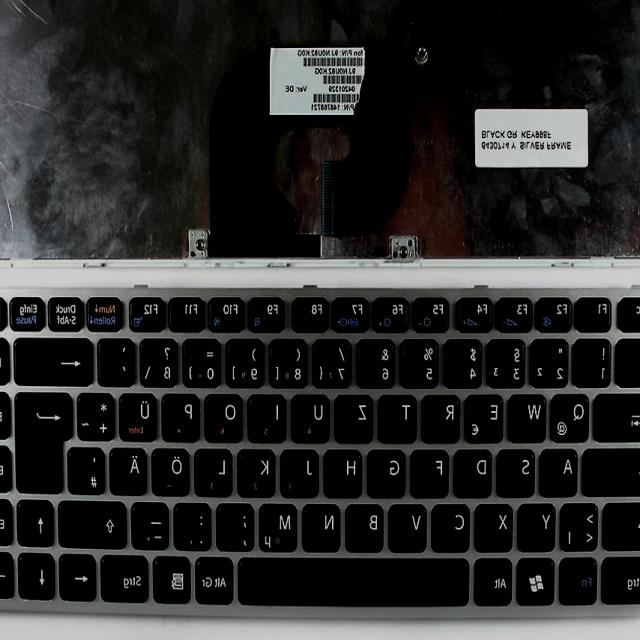0: (185, 334, 223, 386)
1: (578, 335, 614, 385)
2: (534, 335, 572, 385)
3: (490, 335, 529, 385)
4: (447, 335, 485, 385)
5: (404, 335, 442, 385)
6: (360, 335, 398, 385)
7: (315, 335, 354, 386)
8: (272, 335, 310, 386)
9: (229, 335, 268, 386)
a: (543, 445, 581, 495)
accent: (100, 334, 138, 383)
ae: (112, 444, 150, 493)
alt-left: (478, 555, 516, 603)
altgr-right: (198, 552, 236, 602)
b: (349, 499, 388, 549)
c: (435, 500, 473, 549)
caret: (621, 333, 640, 384)
comma: (220, 499, 258, 549)
d: (458, 445, 496, 495)
del: (16, 333, 96, 383)
e: (468, 391, 507, 441)
enter: (18, 389, 75, 491)
f: (414, 446, 452, 495)
g: (372, 445, 410, 495)
h: (328, 446, 366, 495)
hash: (71, 443, 107, 492)
i: (251, 390, 289, 440)
j: (284, 445, 322, 495)
k: (241, 445, 279, 495)
keyboard: (0, 275, 640, 619)
l: (198, 444, 236, 494)
less: (563, 499, 601, 549)
m: (262, 499, 302, 549)
minus: (134, 498, 172, 546)
n: (306, 499, 344, 549)
o: (209, 390, 247, 439)
oe: (155, 444, 193, 494)
p: (165, 389, 203, 438)
plus: (80, 388, 118, 438)
point: (176, 498, 214, 547)
q: (555, 390, 593, 441)
r: (425, 391, 463, 441)
s: (501, 446, 539, 495)
shift-left: (607, 497, 640, 548)
shift-lock: (586, 443, 640, 494)
shift-right: (61, 495, 129, 545)
space: (241, 554, 473, 604)
ss: (143, 334, 181, 385)
strg-left: (606, 552, 640, 601)
strg-right: (103, 551, 153, 600)
t: (382, 391, 420, 440)
tab: (598, 389, 640, 440)
u: (295, 390, 334, 440)
ue: (122, 388, 161, 440)
v: (393, 499, 431, 549)
w: (513, 389, 551, 440)
x: (479, 499, 517, 549)
y: (521, 499, 559, 548)
z: (338, 390, 376, 441)
